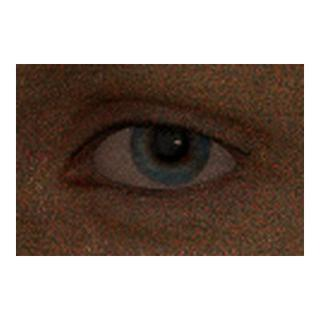pupil: (152, 125, 189, 162)
